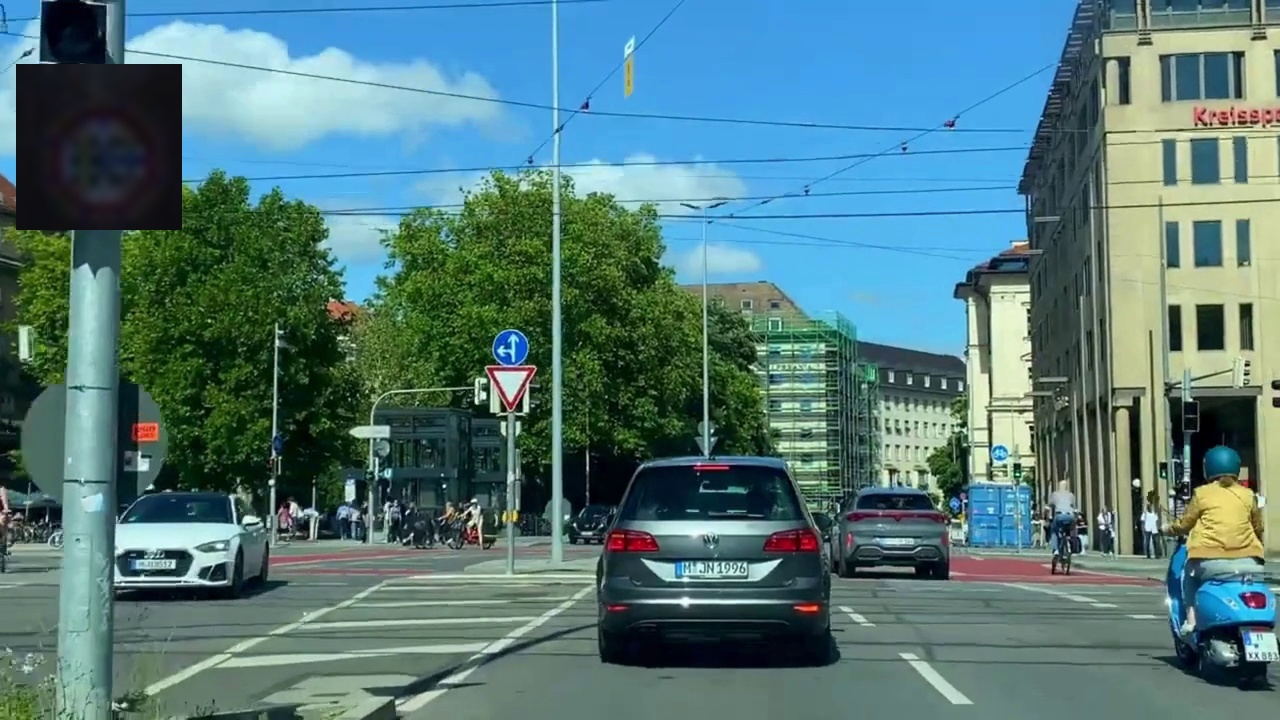Speed 80: (16, 64, 182, 230)
